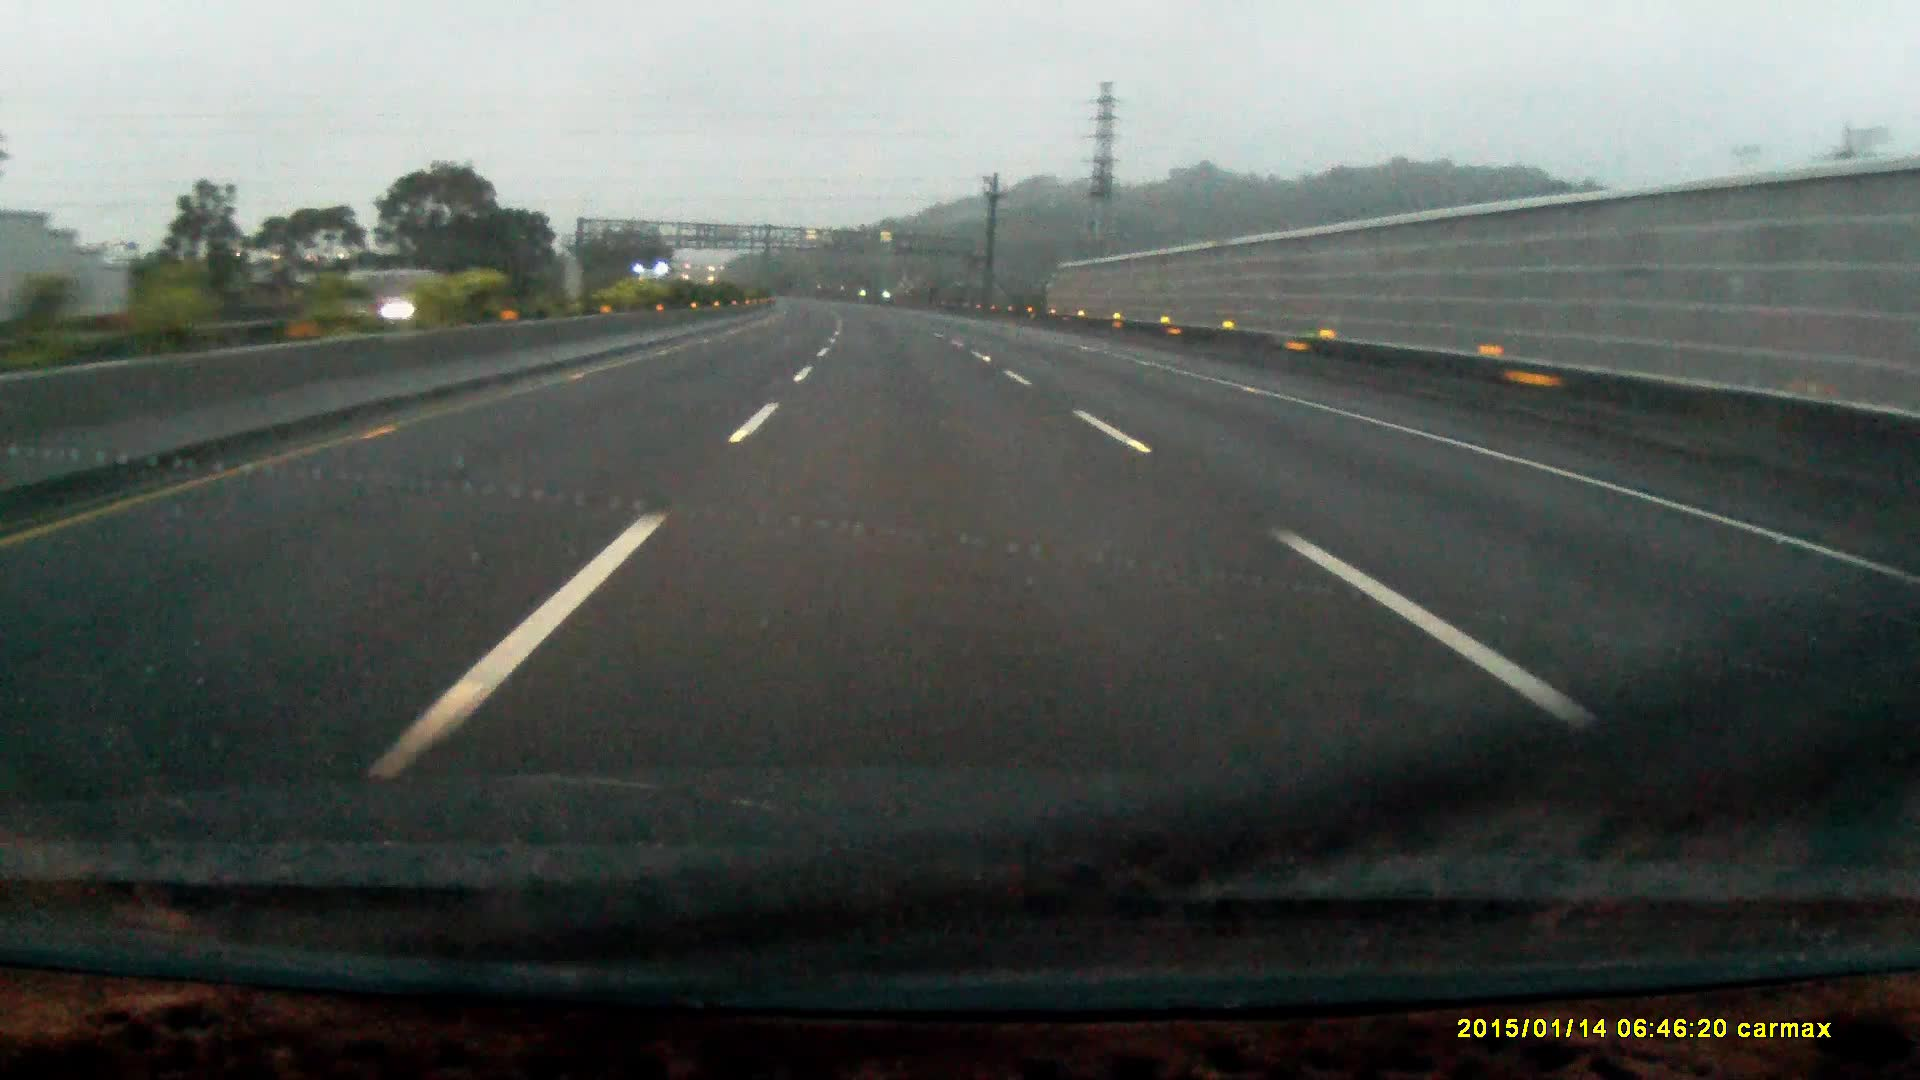vehicle: (340, 266, 440, 319), (637, 262, 684, 309)
